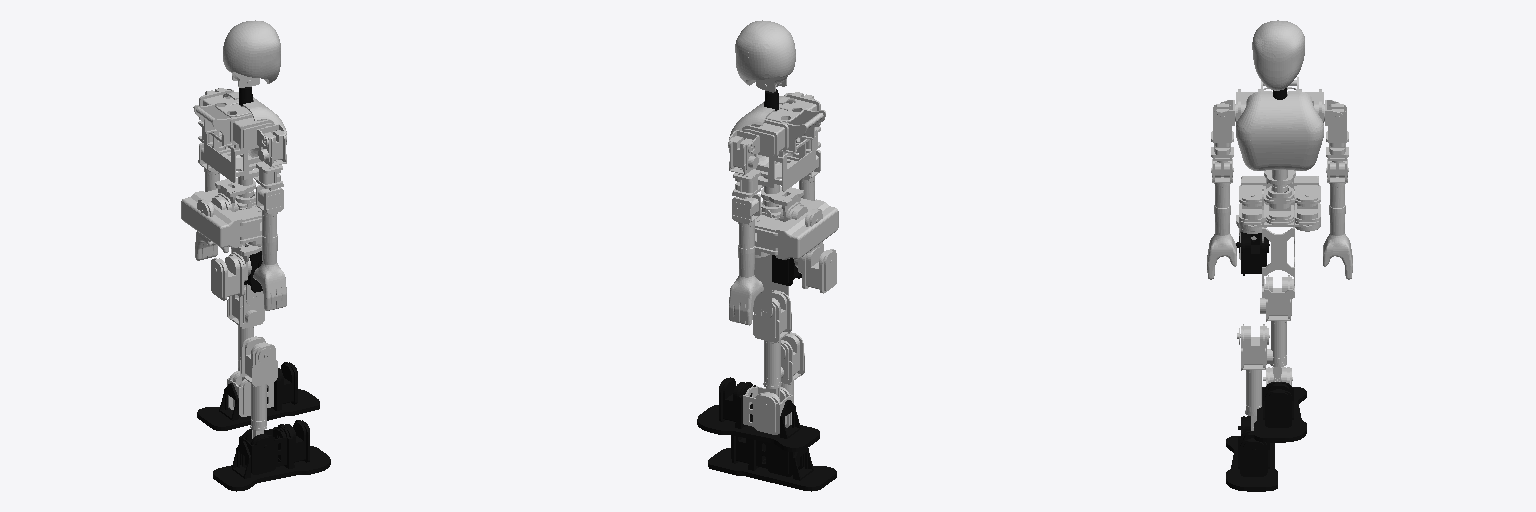
--- Render facts (derived) ---
Views: 3 orthographic renders of the robot side by side, from view 1: azimuth 30°, elevation 25°; view 2: azimuth 150°, elevation 25°; view 3: azimuth 270°, elevation 25°.
Robot: nimbro_op — 24 links, 23 joints (20 continuous, 3 fixed); root link trunk_link; default pose: all joints at 0.
Visible links, largest first — view 1: trunk_link, right_foot_link, head_link, left_foot_link, right_lower_arm_link, right_shank_link, right_hip_yaw_link, right_ankle_link, right_upper_arm_link, left_shank_link, left_hip_yaw_link, left_lower_arm_link (+1 smaller); view 2: trunk_link, left_foot_link, head_link, right_foot_link, left_lower_arm_link, left_shank_link, left_ankle_link, left_upper_arm_link, right_hip_yaw_link, right_shank_link, left_hip_yaw_link, left_thigh_link (+3 smaller); view 3: trunk_link, head_link, left_foot_link, right_foot_link, left_lower_arm_link, right_lower_arm_link, right_shank_link, left_shank_link, left_thigh_link, right_upper_arm_link, left_upper_arm_link, right_hip_roll_link.
Boxes of the visible links, x1,y1,x2,y2 form: trunk_link: [181, 90, 286, 247]; right_foot_link: [213, 420, 330, 491]; head_link: [223, 20, 280, 87]; left_foot_link: [197, 362, 319, 430]; right_lower_arm_link: [253, 185, 286, 310]; right_shank_link: [240, 336, 277, 438]; right_hip_yaw_link: [211, 243, 261, 300]; right_ankle_link: [239, 428, 286, 474]; right_upper_arm_link: [256, 130, 286, 189]; left_shank_link: [227, 285, 264, 381]; left_hip_yaw_link: [197, 178, 255, 241]; left_lower_arm_link: [195, 143, 228, 260]; trunk_link: [728, 94, 838, 259]; left_foot_link: [697, 377, 819, 451]; head_link: [735, 20, 795, 92]; right_foot_link: [708, 435, 836, 491]; left_lower_arm_link: [729, 194, 763, 325]; left_shank_link: [753, 290, 791, 398]; left_ankle_link: [743, 386, 792, 434]; left_upper_arm_link: [728, 136, 760, 198]; right_hip_yaw_link: [794, 247, 836, 293]; right_shank_link: [781, 332, 804, 403]; left_hip_yaw_link: [761, 186, 822, 252]; left_thigh_link: [753, 208, 788, 318]; trunk_link: [1236, 77, 1323, 231]; head_link: [1252, 20, 1304, 90]; left_foot_link: [1254, 382, 1306, 442]; right_foot_link: [1226, 431, 1277, 491]; left_lower_arm_link: [1323, 159, 1352, 279]; right_lower_arm_link: [1207, 159, 1236, 279]; right_shank_link: [1237, 324, 1272, 430]; left_shank_link: [1260, 275, 1293, 381]; left_thigh_link: [1262, 187, 1294, 298]; right_upper_arm_link: [1211, 103, 1233, 172]; left_upper_arm_link: [1326, 103, 1348, 172]; right_hip_roll_link: [1236, 232, 1269, 275].
Bounding box of the posed robot: 0.2685 × 0.3036 × 1.01 m (x, y, z).
19 mesh visuals loaded from 21 distinct referenced files (19 binary STL); not drawn: 2 (reference not matched to a file when rendering).

URDF robot description (nimbro_op):
<?xml version="1.0" ?>
<!-- =================================================================================== -->
<!-- |    This document was autogenerated by xacro from igus_op_hull.xacro             | -->
<!-- |    EDITING THIS FILE BY HAND IS NOT RECOMMENDED                                 | -->
<!-- =================================================================================== -->
<robot name="nimbro_op" xmlns:xacro="http://www.ros.org/wiki/xacro">
  <material name="black">
    <color rgba="0.1 0.1 0.1 1"/>
  </material>
  <material name="white">
    <color rgba="0.8 0.8 0.8 1"/>
  </material>
  <material name="clear">
    <color rgba="1.0 1.0 1.0 0.0"/>
  </material>
  <material name="orange">
    <color rgba="1.0 0.423529411765 0.0392156862745 1.0"/>
  </material>
  <link name="trunk_link">
    <inertial>
      <origin rpy="0 0 0" xyz="-0.03350128 -0.00000736 0.04997206"/>
      <mass value="3"/>
      <inertia ixx="0.0461408" ixy="-0.00002058" ixz="0.00526699" iyy="0.04220911" iyz="-0.00000817" izz="0.0145547"/>
    </inertial>
    <visual>
      <origin rpy="0 0 0" xyz="0 0 0"/>
      <geometry>
        <mesh filename="package://nimbro_op_model/mesh/uxa_90/trunk_link.stl"/>
      </geometry>
      <material name="white"/>
    </visual>
    <collision>
      <origin rpy="0 0 0" xyz="0 0 0"/>
      <geometry>
        <mesh filename="package://nimbro_op_model/mesh/uxa_90/trunk_link.stl"/>
      </geometry>
    </collision>
  </link>
  <link name="right_hip_yaw_link">
    <inertial>
      <origin rpy="0 0 0" xyz="-0.06619144 0 -0.01242002"/>
      <mass value="0.5"/>
      <inertia ixx="0.00054102" ixy="-0.00000002" ixz="0.00021081" iyy="0.00075394" iyz="-0.00000002" izz="0.0004465"/>
    </inertial>
    <visual>
      <origin rpy="0 0 0" xyz="0 0 0"/>
      <geometry>
        <mesh filename="package://nimbro_op_model/mesh/uxa_90/right_hip_yaw_link.stl"/>
      </geometry>
      <material name="white"/>
    </visual>
    <collision>
      <origin rpy="0 0 0" xyz="0 0 0"/>
      <geometry>
        <mesh filename="package://nimbro_op_model/mesh/uxa_90/right_hip_yaw_link.stl"/>
      </geometry>
    </collision>
  </link>
  <joint name="right_hip_yaw" type="continuous">
    <origin rpy="0 0 0" xyz="0 -0.057 -0.11248"/>
    <parent link="trunk_link"/>
    <child link="right_hip_yaw_link"/>
    <axis xyz="0 0 1"/>
  </joint>
  <link name="right_hip_roll_link">
    <inertial>
      <origin rpy="0 0 0" xyz="-0.00277154 -0.00294068 -0.02000261"/>
      <mass value="0.5"/>
      <inertia ixx="0.00040951" ixy="-0.00000051" ixz="-0.0000231" iyy="0.00037309" iyz="-0.00000404" izz="0.00028851"/>
    </inertial>
    <visual>
      <origin rpy="0 0 0" xyz="0 0 0"/>
      <geometry>
        <mesh filename="package://nimbro_op_model/mesh/uxa_90/right_hip_roll_link.STL"/>
      </geometry>
      <material name="black"/>
    </visual>
    <collision>
      <origin rpy="0 0 0" xyz="0 0 0"/>
      <geometry>
        <mesh filename="package://nimbro_op_model/mesh/uxa_90/right_hip_roll_link.STL"/>
      </geometry>
    </collision>
  </link>
  <joint name="right_hip_roll" type="continuous">
    <origin rpy="0 0 0" xyz="0 0.00257 0"/>
    <parent link="right_hip_yaw_link"/>
    <child link="right_hip_roll_link"/>
    <axis xyz="1 0 0"/>
  </joint>
  <link name="right_thigh_link">
    <inertial>
      <origin rpy="0 0 0" xyz="0.01351475 0 -0.117177084"/>
      <mass value="0.2"/>
      <inertia ixx="0.00086927" ixy="0.0" ixz="-0.00004286" iyy="0.00076355" iyz="0" izz="0.00021719"/>
    </inertial>
    <visual>
      <origin rpy="0 0 0" xyz="0 0 0"/>
      <geometry>
        <mesh filename="package://nimbro_op_model/mesh/uxa_90/right_thigh_link.stl"/>
      </geometry>
      <material name="white"/>
    </visual>
    <collision>
      <origin rpy="0 0 0" xyz="0 0 0"/>
      <geometry>
        <mesh filename="package://nimbro_op_model/mesh/uxa_90/right_thigh_link.stl"/>
      </geometry>
    </collision>
  </link>
  <joint name="right_hip_pitch" type="continuous">
    <origin rpy="0 0 0" xyz="0 0 0"/>
    <parent link="right_hip_roll_link"/>
    <child link="right_thigh_link"/>
    <axis xyz="0 1 0"/>
  </joint>
  <link name="right_shank_link">
    <inertial>
      <origin rpy="0 0 0" xyz="0.00011984 -0.00214972 -0.06205455"/>
      <mass value="0.5"/>
      <inertia ixx="0.00178356" ixy="0.00000195" ixz="0.00000109" iyy="0.00172349" iyz="-0.00000682" izz="0.00020309"/>
    </inertial>
    <visual>
      <origin rpy="0 0 0" xyz="0 0 0"/>
      <geometry>
        <mesh filename="package://nimbro_op_model/mesh/uxa_90/right_shank_link.stl"/>
      </geometry>
      <material name="white"/>
    </visual>
    <collision>
      <origin rpy="0 0 0" xyz="0 0 0"/>
      <geometry>
        <mesh filename="package://nimbro_op_model/mesh/uxa_90/right_shank_link.stl"/>
      </geometry>
    </collision>
  </link>
  <joint name="right_knee_pitch" type="continuous">
    <origin rpy="0 0 0" xyz="0 0.00309 -0.21"/>
    <parent link="right_thigh_link"/>
    <child link="right_shank_link"/>
    <axis xyz="0 1 0"/>
  </joint>
  <link name="right_ankle_link">
    <inertial>
      <origin rpy="0 0 0" xyz="-0.00262 -0.00734 -0.02244"/>
      <mass value="0.5"/>
      <inertia ixx="0.00037659" ixy="0.00000044" ixz="0.00000867" iyy="0.00040768" iyz="-0.00000423" izz="0.00034365"/>
    </inertial>
    <visual>
      <origin rpy="0 0 0" xyz="0 0 0"/>
      <geometry>
        <mesh filename="package://nimbro_op_model/mesh/uxa_90/right_ankle_link.STL"/>
      </geometry>
      <material name="black"/>
    </visual>
    <collision>
      <origin rpy="0 0 0" xyz="0 0 0"/>
      <geometry>
        <mesh filename="package://nimbro_op_model/mesh/uxa_90/right_ankle_link.STL"/>
      </geometry>
    </collision>
  </link>
  <joint name="right_ankle_pitch" type="continuous">
    <origin rpy="0 0 0" xyz="0 -0.00304 -0.21"/>
    <parent link="right_shank_link"/>
    <child link="right_ankle_link"/>
    <axis xyz="0 1 0"/>
  </joint>
  <link name="right_foot_link">
    <inertial>
      <origin rpy="0 0 0" xyz="0.05358428 -0.00050578 -0.04190127"/>
      <mass value="0.5"/>
      <inertia ixx="0.00065983" ixy="-0.00002894" ixz="0.00027412" iyy="0.00214467" iyz="-0.00000646" izz="0.00207273"/>
    </inertial>
    <visual>
      <origin rpy="0 0 0" xyz="0 0 0"/>
      <geometry>
        <mesh filename="package://nimbro_op_model/mesh/uxa_90/right_foot_link.stl"/>
      </geometry>
      <material name="black"/>
    </visual>
    <collision>
      <origin rpy="0 0 0" xyz="0 0 0"/>
      <geometry>
        <mesh filename="package://nimbro_op_model/mesh/uxa_90/right_foot_link.stl"/>
      </geometry>
    </collision>
  </link>
  <joint name="right_ankle_roll" type="continuous">
    <origin rpy="0 0 0" xyz="0 0 0"/>
    <parent link="right_ankle_link"/>
    <child link="right_foot_link"/>
    <axis xyz="1 0 0"/>
  </joint>
  <link name="right_foot_plane_link">
		</link>
  <joint name="right_foot_plane_joint" type="fixed">
    <origin rpy="0 0 0" xyz="0 0 -0.07245"/>
    <parent link="right_foot_link"/>
    <child link="right_foot_plane_link"/>
  </joint>
  <link name="left_hip_yaw_link">
    <inertial>
      <origin rpy="0 0 0" xyz="-0.06619144 0 -0.01242002"/>
      <mass value="0.5"/>
      <inertia ixx="0.00054102" ixy="-0.00000002" ixz="0.00021081" iyy="0.00075394" iyz="-0.00000002" izz="0.0004465"/>
    </inertial>
    <visual>
      <origin rpy="0 0 0" xyz="0 0 0"/>
      <geometry>
        <mesh filename="package://nimbro_op_model/mesh/uxa_90/left_hip_yaw_link.stl"/>
      </geometry>
      <material name="white"/>
    </visual>
    <collision>
      <origin rpy="0 0 0" xyz="0 0 0"/>
      <geometry>
        <mesh filename="package://nimbro_op_model/mesh/uxa_90/left_hip_yaw_link.stl"/>
      </geometry>
    </collision>
  </link>
  <joint name="left_hip_yaw" type="continuous">
    <origin rpy="0 0 0" xyz="0 0.057 -0.11248"/>
    <origin rpy="0 0 0" xyz="0 0 0"/>
    <parent link="trunk_link"/>
    <child link="left_hip_yaw_link"/>
    <axis xyz="0 0 1"/>
  </joint>
  <link name="left_hip_roll_link">
    <inertial>
      <origin rpy="0 0 0" xyz="-0.00277154 -0.00294068 -0.02000261"/>
      <mass value="0.5"/>
      <inertia ixx="0.00040951" ixy="-0.00000051" ixz="-0.0000231" iyy="0.00037309" iyz="-0.00000404" izz="0.00028851"/>
    </inertial>
    <visual>
      <origin rpy="0 0 0" xyz="0 0 0"/>
      <geometry>
        <mesh filename="package://nimbro_op_model/mesh/uxa_90/left_hip_roll_link.STL"/>
      </geometry>
      <material name="black"/>
    </visual>
    <collision>
      <origin rpy="0 0 0" xyz="0 0 0"/>
      <geometry>
        <mesh filename="package://nimbro_op_model/mesh/uxa_90/left_hip_roll_link.STL"/>
      </geometry>
    </collision>
  </link>
  <joint name="left_hip_roll" type="continuous">
    <origin rpy="0 0 0" xyz="0 -0.00257 0"/>
    <parent link="left_hip_yaw_link"/>
    <child link="left_hip_roll_link"/>
    <axis xyz="1 0 0"/>
  </joint>
  <link name="left_thigh_link">
    <inertial>
      <origin rpy="0 0 0" xyz="0.01351475 0 -0.117177084"/>
      <mass value="0.2"/>
      <inertia ixx="0.00086927" ixy="0.0" ixz="-0.00004286" iyy="0.00076355" iyz="0" izz="0.00021719"/>
    </inertial>
    <visual>
      <origin rpy="0 0 0" xyz="0 0 0"/>
      <geometry>
        <mesh filename="package://nimbro_op_model/mesh/uxa_90/left_thigh_link.stl"/>
      </geometry>
      <material name="white"/>
    </visual>
    <collision>
      <origin rpy="0 0 0" xyz="0 0 0"/>
      <geometry>
        <mesh filename="package://nimbro_op_model/mesh/uxa_90/left_thigh_link.stl"/>
      </geometry>
    </collision>
  </link>
  <joint name="left_hip_pitch" type="continuous">
    <origin rpy="0 0 0" xyz="0 0 0"/>
    <parent link="left_hip_roll_link"/>
    <child link="left_thigh_link"/>
    <axis xyz="0 1 0"/>
  </joint>
  <link name="left_shank_link">
    <inertial>
      <origin rpy="0 0 0" xyz="-0.00011984 0.00214792 -0.06205455"/>
      <mass value="0.5"/>
      <inertia ixx="0.00178356" ixy="0.00000195" ixz="-0.00000109" iyy="0.00172349" iyz="0.00000682" izz="0.00020309"/>
    </inertial>
    <visual>
      <origin rpy="0 0 0" xyz="0 0 0"/>
      <geometry>
        <mesh filename="package://nimbro_op_model/mesh/uxa_90/left_shank_link.stl"/>
      </geometry>
      <material name="white"/>
    </visual>
    <collision>
      <origin rpy="0 0 0" xyz="0 0 0"/>
      <geometry>
        <mesh filename="package://nimbro_op_model/mesh/uxa_90/left_shank_link.stl"/>
      </geometry>
    </collision>
  </link>
  <joint name="left_knee_pitch" type="continuous">
    <origin rpy="0 0 0" xyz="0 -0.00309 -0.21"/>
    <parent link="left_thigh_link"/>
    <child link="left_shank_link"/>
    <axis xyz="0 1 0"/>
  </joint>
  <link name="left_ankle_link">
    <inertial>
      <origin rpy="0 0 0" xyz="0.00262362 -0.00033512 -0.02243854"/>
      <mass value="0.5"/>
      <inertia ixx="0.00037659" ixy="0.00000044" ixz="0.00000867" iyy="0.00040768" iyz="-0.00000423" izz="0.00034365"/>
    </inertial>
    <visual>
      <origin rpy="0 0 0" xyz="0 0 0"/>
      <geometry>
        <mesh filename="package://nimbro_op_model/mesh/uxa_90/left_ankle_link.STL"/>
      </geometry>
      <material name="white"/>
    </visual>
    <collision>
      <origin rpy="0 0 0" xyz="0 0 0"/>
      <geometry>
        <mesh filename="package://nimbro_op_model/mesh/uxa_90/left_ankle_link.STL"/>
      </geometry>
    </collision>
  </link>
  <joint name="left_ankle_pitch" type="continuous">
    <origin rpy="0 0 0" xyz="0 0.00304 -0.21"/>
    <parent link="left_shank_link"/>
    <child link="left_ankle_link"/>
    <axis xyz="0 1 0"/>
  </joint>
  <link name="left_foot_link">
    <inertial>
      <origin rpy="0 0 0" xyz="0.05358428 -0.00050578 -0.04190127"/>
      <mass value="0.5"/>
      <inertia ixx="0.00065983" ixy="-0.00002894" ixz="0.00027412" iyy="0.00214467" iyz="-0.00000646" izz="0.00207273"/>
    </inertial>
    <visual>
      <origin rpy="0 0 0" xyz="0 0 0"/>
      <geometry>
        <mesh filename="package://nimbro_op_model/mesh/uxa_90/left_foot_link.stl"/>
      </geometry>
      <material name="black"/>
    </visual>
    <collision>
      <origin rpy="0 0 0" xyz="0 0 0"/>
      <geometry>
        <mesh filename="package://nimbro_op_model/mesh/uxa_90/left_foot_link.stl"/>
      </geometry>
    </collision>
  </link>
  <joint name="left_ankle_roll" type="continuous">
    <origin rpy="0 0 0" xyz="0 0 0"/>
    <parent link="left_ankle_link"/>
    <child link="left_foot_link"/>
    <axis xyz="1 0 0"/>
  </joint>
  <link name="left_foot_plane_link">
		</link>
  <joint name="left_foot_plane_joint" type="fixed">
    <origin rpy="0 0 0" xyz="0 0 -0.07245"/>
    <parent link="left_foot_link"/>
    <child link="left_foot_plane_link"/>
  </joint>
  <link name="right_shoulder_pitch_link">
    <inertial>
      <origin rpy="0 0 0" xyz="-0.00000163 -0.00799517 0"/>
      <mass value="0.1"/>
      <inertia ixx="0.00001543" ixy="0" ixz="0" iyy="0.00004317" iyz="0" izz="0.000003859"/>
    </inertial>
    <visual>
      <origin rpy="0 0 0" xyz="0 0 0"/>
      <geometry>
        <mesh filename="package://nimbro_op_model/mesh/uxa_90/right_shoulder_pitch_link.stl"/>
      </geometry>
      <material name="white"/>
    </visual>
    <collision>
      <origin rpy="0 0 0" xyz="0 0 0"/>
      <geometry>
        <mesh filename="package://nimbro_op_model/mesh/uxa_90/right_shoulder_pitch_link.stl"/>
      </geometry>
    </collision>
  </link>
  <joint name="right_shoulder_pitch" type="continuous">
    <origin rpy="0 0 0" xyz="0 -0.09116 0.1905"/>
    <parent link="trunk_link"/>
    <child link="right_shoulder_pitch_link"/>
    <axis xyz="0 1 0"/>
  </joint>
  <link name="right_upper_arm_link">
    <inertial>
      <origin rpy="0 0 0 " xyz="-0.0058694 0 -0.04909658"/>
      <mass value="0.5"/>
      <inertia ixx="0.0006643" ixy="0" ixz="0.00006539" iyy="0.00071563" iyz="0" izz="0.000141"/>
    </inertial>
    <visual>
      <origin rpy="0 0 0" xyz="0 0 0"/>
      <geometry>
        <mesh filename="package://nimbro_op_model/mesh/uxa_90/right_shoulder_arm_link.stl"/>
      </geometry>
      <material name="white"/>
    </visual>
    <collision>
      <origin rpy="0 0 0" xyz="0 0 0"/>
      <geometry>
        <mesh filename="package://nimbro_op_model/mesh/uxa_90/right_shoulder_arm_link.stl"/>
      </geometry>
    </collision>
  </link>
  <joint name="right_shoulder_roll" type="continuous">
    <origin rpy="0 0 0" xyz="0 -0.0285 0"/>
    <parent link="right_shoulder_pitch_link"/>
    <child link="right_upper_arm_link"/>
    <axis xyz="1 0 0"/>
  </joint>
  <link name="right_lower_arm_link">
    <inertial>
      <origin rpy="0 0 0" xyz="-0.01102935 -0.00284483 -0.11596989"/>
      <mass value="0.5"/>
      <inertia ixx="0.00317274" ixy="0.00000365" ixz="-0.00001572" iyy="0.00314138" iyz="0.000014695" izz="0.00016484"/>
    </inertial>
    <visual>
      <origin rpy="0 0 0" xyz="0 0 0"/>
      <geometry>
        <mesh filename="package://nimbro_op_model/mesh/uxa_90/right_lower_arm_link.stl"/>
      </geometry>
      <material name="white"/>
    </visual>
    <collision>
      <origin rpy="0 0 0" xyz="0 0 0"/>
      <geometry>
        <mesh filename="package://nimbro_op_model/mesh/uxa_90/right_lower_arm_link.stl"/>
      </geometry>
    </collision>
  </link>
  <joint name="right_elbow_pitch" type="continuous">
    <origin rpy="0 0 0" xyz="0 0 -0.1319"/>
    <parent link="right_upper_arm_link"/>
    <child link="right_lower_arm_link"/>
    <axis xyz="0 1 0"/>
  </joint>
  <link name="left_shoulder_pitch_link">
    <inertial>
      <origin rpy="0 0 0" xyz="0.00000163 0.00799517 0"/>
      <mass value="0.1"/>
      <inertia ixx="0.00001543" ixy="0" ixz="0" iyy="0.00004317" iyz="0" izz="0.000003859"/>
    </inertial>
    <visual>
      <origin rpy="0 0 0" xyz="0 0 0"/>
      <geometry>
        <mesh filename="package://nimbro_op_model/mesh/uxa_90/left_shoulder_pitch_link.stl"/>
      </geometry>
      <material name="white"/>
    </visual>
    <collision>
      <origin rpy="0 0 0" xyz="0 0 0"/>
      <geometry>
        <mesh filename="package://nimbro_op_model/mesh/uxa_90/left_shoulder_pitch_link.stl"/>
      </geometry>
    </collision>
  </link>
  <joint name="left_shoulder_pitch" type="continuous">
    <origin rpy="0 0 0" xyz="0 0.09116 0.1905"/>
    <parent link="trunk_link"/>
    <child link="left_shoulder_pitch_link"/>
    <axis xyz="0 1 0"/>
  </joint>
  <link name="left_upper_arm_link">
    <inertial>
      <origin rpy="0 0 0 " xyz="0 -0.00587 -0.0491"/>
      <mass value="0.5"/>
      <inertia ixx="0.00071563" ixy="0" ixz="0" iyy="0.00066643" iyz="-0.00006539" izz="0.000141"/>
    </inertial>
    <visual>
      <origin rpy="0 0 0" xyz="0 0 0"/>
      <geometry>
        <mesh filename="package://nimbro_op_model/mesh/uxa_90/left_upper_arm_link.stl"/>
      </geometry>
      <material name="white"/>
    </visual>
    <collision>
      <origin rpy="0 0 0" xyz="0 0 0"/>
      <geometry>
        <mesh filename="package://nimbro_op_model/mesh/uxa_90/left_upper_arm_link.stl"/>
      </geometry>
    </collision>
  </link>
  <joint name="left_shoulder_roll" type="continuous">
    <origin rpy="0 0 0" xyz="0 0.0285 0"/>
    <parent link="left_shoulder_pitch_link"/>
    <child link="left_upper_arm_link"/>
    <axis xyz="1 0 0"/>
  </joint>
  <link name="left_lower_arm_link">
    <inertial>
      <origin rpy="0 0 0" xyz="-0.01102139 0.00283095 -0.11596545"/>
      <mass value="0.5"/>
      <inertia ixx="0.00190532" ixy="-0.00000222" ixz="-0.00000958" iyy="0.0018868" iyz="-0.0000882" izz="0.000099"/>
    </inertial>
    <visual>
      <origin rpy="0 0 0" xyz="0 0 0"/>
      <geometry>
        <mesh filename="package://nimbro_op_model/mesh/uxa_90/left_lower_arm_link.stl"/>
      </geometry>
      <material name="white"/>
    </visual>
    <collision>
      <origin rpy="0 0 0" xyz="0 0 0"/>
      <geometry>
        <mesh filename="package://nimbro_op_model/mesh/uxa_90/left_lower_arm_link.stl"/>
      </geometry>
    </collision>
  </link>
  <joint name="left_elbow_pitch" type="continuous">
    <origin rpy="0 0 0" xyz="0 0 -0.1319"/>
    <parent link="left_upper_arm_link"/>
    <child link="left_lower_arm_link"/>
    <axis xyz="0 1 0"/>
  </joint>
  <link name="neck_link">
    <inertial>
      <origin rpy="0 0 0" xyz="0 0 0.02062"/>
      <mass value="0.05"/>
      <inertia ixx="0.00001034" ixy="0.0" ixz="0.0" iyy="0.00001035" iyz="0.0" izz="0.00000476"/>
    </inertial>
    <visual>
      <origin rpy="0 0 0" xyz="0 0 0"/>
      <geometry>
        <mesh filename="package://nimbro_op_model/mesh/uxa_90/neck_link.STL"/>
      </geometry>
      <material name="black"/>
    </visual>
    <collision>
      <origin rpy="0 0 0" xyz="0 0 0"/>
      <geometry>
        <mesh filename="package://nimbro_op_model/mesh/uxa_90/neck_link.STL"/>
      </geometry>
    </collision>
  </link>
  <joint name="neck_yaw" type="continuous">
    <origin rpy="0 0 -0.145633370434016" xyz="0 0 0.224"/>
    <parent link="trunk_link"/>
    <child link="neck_link"/>
    <axis xyz="0 0 1"/>
  </joint>
  <link name="head_link">
    <inertial>
      <origin rpy="0 0 0" xyz="0 0 0"/>
      <mass value="0.3"/>
      <inertia ixx="0.00009607" ixy="0" ixz="0" iyy="0.00007498" iyz="0.00000007" izz="0.00009005"/>
    </inertial>
    <visual>
      <origin rpy="0 0 0" xyz="0 0 0.05932"/>
      <geometry>
        <mesh filename="package://nimbro_op_model/mesh/uxa_90/head_full.stl"/>
      </geometry>
      <material name="white"/>
    </visual>
    <collision>
      <origin rpy="0 0 0" xyz="0 0 0.05932"/>
      <geometry>
        <mesh filename="package://nimbro_op_model/mesh/uxa_90/head_full.stl"/>
      </geometry>
    </collision>
  </link>
  <joint name="head_pitch" type="continuous">
    <origin rpy="0 0 0" xyz="0 0 0.05735"/>
    <parent link="neck_link"/>
    <child link="head_link"/>
    <axis xyz="0 1 0"/>
  </joint>
  <link name="camera_optical">			
		</link>
  <joint name="camera_joint" type="fixed">
    <origin rpy="0 0 0" xyz="0 0 0.05932"/>
    <parent link="head_link"/>
    <child link="camera_optical"/>
    <axis xyz="0 0 0"/>
  </joint>
  <!-- Transmissions -->
  <transmission name="right_hip_yaw_transmission">
    <type>transmission_interface/SimpleTransmission</type>
    <joint name="right_hip_yaw">
      <hardwareInterface>EffortJointInterface</hardwareInterface>
    </joint>
    <actuator name="right_hip_yaw">
      <mechanicalReduction>1</mechanicalReduction>
    </actuator>
  </transmission>
  <transmission name="right_hip_roll_transmission">
    <type>transmission_interface/SimpleTransmission</type>
    <joint name="right_hip_roll">
      <hardwareInterface>EffortJointInterface</hardwareInterface>
    </joint>
    <actuator name="right_hip_roll">
      <mechanicalReduction>1</mechanicalReduction>
    </actuator>
  </transmission>
  <transmission name="right_hip_pitch_transmission">
    <type>transmission_interface/SimpleTransmission</type>
    <joint name="right_hip_pitch">
      <hardwareInterface>EffortJointInterface</hardwareInterface>
    </joint>
    <actuator name="right_hip_pitch">
      <mechanicalReduction>1</mechanicalReduction>
    </actuator>
  </transmission>
  <transmission name="right_knee_pitch_transmission">
    <type>transmission_interface/SimpleTransmission</type>
    <joint name="right_knee_pitch">
      <hardwareInterface>EffortJointInterface</hardwareInterface>
    </joint>
    <actuator name="right_knee_pitch">
      <mechanicalReduction>1</mechanicalReduction>
    </actuator>
  </transmission>
  <transmission name="right_ankle_pitch_transmission">
    <type>transmission_interface/SimpleTransmission</type>
    <joint name="right_ankle_pitch">
      <hardwareInterface>EffortJointInterface</hardwareInterface>
    </joint>
    <actuator name="right_ankle_pitch">
      <mechanicalReduction>1</mechanicalReduction>
    </actuator>
  </transmission>
  <transmission name="right_ankle_roll_transmission">
    <type>transmission_interface/SimpleTransmission</type>
    <joint name="right_ankle_roll">
      <hardwareInterface>EffortJointInterface</hardwareInterface>
    </joint>
    <actuator name="right_ankle_roll">
      <mechanicalReduction>1</mechanicalReduction>
    </actuator>
  </transmission>
  <transmission name="left_hip_yaw_transmission">
    <type>transmission_interface/SimpleTransmission</type>
    <joint name="left_hip_yaw">
      <hardwareInterface>EffortJointInterface</hardwareInterface>
    </joint>
    <actuator name="left_hip_yaw">
      <mechanicalReduction>1</mechanicalReduction>
    </actuator>
  </transmission>
  <transmission name="left_hip_roll_transmission">
    <type>transmission_interface/SimpleTransmission</type>
    <joint name="left_hip_roll">
      <hardwareInterface>EffortJointInterface</hardwareInterface>
    </joint>
    <actuator name="left_hip_roll">
      <mechanicalReduction>1</mechanicalReduction>
    </actuator>
  </transmission>
  <transmission name="left_hip_pitch_transmission">
    <type>transmission_interface/SimpleTransmission</type>
    <joint name="left_hip_pitch">
      <hardwareInterface>EffortJointInterface</hardwareInterface>
    </joint>
    <actuator name="left_hip_pitch">
      <mechanicalReduction>1</mechanicalReduction>
    </actuator>
  </transmission>
  <transmission name="left_knee_pitch_transmission">
    <type>transmission_interface/SimpleTransmission</type>
    <joint name="left_knee_pitch">
      <hardwareInterface>EffortJointInterface</hardwareInterface>
    </joint>
    <actuator name="left_knee_pitch">
      <mechanicalReduction>1</mechanicalReduction>
    </actuator>
  </transmission>
  <transmission name="left_ankle_pitch_transmission">
    <type>transmission_interface/SimpleTransmission</type>
    <joint name="left_ankle_pitch">
      <hardwareInterface>EffortJointInterface</hardwareInterface>
    </joint>
    <actuator name="left_ankle_pitch">
      <mechanicalReduction>1</mechanicalReduction>
    </actuator>
  </transmission>
  <transmission name="left_ankle_roll_transmission">
    <type>transmission_interface/SimpleTransmission</type>
    <joint name="left_ankle_roll">
      <hardwareInterface>EffortJointInterface</hardwareInterface>
    </joint>
    <actuator name="left_ankle_roll">
      <mechanicalReduction>1</mechanicalReduction>
    </actuator>
  </transmission>
  <transmission name="right_shoulder_pitch_transmission">
    <type>transmission_interface/SimpleTransmission</type>
    <joint name="right_shoulder_pitch">
      <hardwareInterface>EffortJointInterface</hardwareInterface>
    </joint>
    <actuator name="right_shoulder_pitch">
      <mechanicalReduction>1</mechanicalReduction>
    </actuator>
  </transmission>
  <transmission name="right_shoulder_roll_transmission">
    <type>transmission_interface/SimpleTransmission</type>
    <joint name="right_shoulder_roll">
      <hardwareInterface>EffortJointInterface</hardwareInterface>
    </joint>
    <actuator name="right_shoulder_roll">
      <mechanicalReduction>1</mechanicalReduction>
    </actuator>
  </transmission>
  <transmission name="right_elbow_pitch_transmission">
    <type>transmission_interface/SimpleTransmission</type>
    <joint name="right_elbow_pitch">
      <hardwareInterface>EffortJointInterface</hardwareInterface>
    </joint>
    <actuator name="right_elbow_pitch">
      <mechanicalReduction>1</mechanicalReduction>
    </actuator>
  </transmission>
  <transmission name="left_shoulder_pitch_transmission">
    <type>transmission_interface/SimpleTransmission</type>
    <joint name="left_shoulder_pitch">
      <hardwareInterface>EffortJointInterface</hardwareInterface>
    </joint>
    <actuator name="left_shoulder_pitch">
      <mechanicalReduction>1</mechanicalReduction>
    </actuator>
  </transmission>
  <transmission name="left_shoulder_roll_transmission">
    <type>transmission_interface/SimpleTransmission</type>
    <joint name="left_shoulder_roll">
      <hardwareInterface>EffortJointInterface</hardwareInterface>
    </joint>
    <actuator name="left_shoulder_roll">
      <mechanicalReduction>1</mechanicalReduction>
    </actuator>
  </transmission>
  <transmission name="left_elbow_pitch_transmission">
    <type>transmission_interface/SimpleTransmission</type>
    <joint name="left_elbow_pitch">
      <hardwareInterface>EffortJointInterface</hardwareInterface>
    </joint>
    <actuator name="left_elbow_pitch">
      <mechanicalReduction>1</mechanicalReduction>
    </actuator>
  </transmission>
  <transmission name="neck_yaw_transmission">
    <type>transmission_interface/SimpleTransmission</type>
    <joint name="neck_yaw">
      <hardwareInterface>EffortJointInterface</hardwareInterface>
    </joint>
    <actuator name="neck_yaw">
      <mechanicalReduction>1</mechanicalReduction>
    </actuator>
  </transmission>
  <transmission name="head_pitch_transmission">
    <type>transmission_interface/SimpleTransmission</type>
    <joint name="head_pitch">
      <hardwareInterface>EffortJointInterface</hardwareInterface>
    </joint>
    <actuator name="head_pitch">
      <mechanicalReduction>1</mechanicalReduction>
    </actuator>
  </transmission>
  <!-- Gazebo configuration -->
  <gazebo>
    <plugin filename="libgazebo_ros_control.so" name="gazebo_ros_control">
      <robotNamespace>/nimbro_op</robotNamespace>
    </plugin>
  </gazebo>
  <!-- Gazebo links -->
  <gazebo reference="trunk_link">
    <material>Gazebo/White</material>
  </gazebo>
  <gazebo reference="left_hip_yaw_link">
    <material>Gazebo/White</material>
  </gazebo>
  <gazebo reference="left_hip_roll_link">
    <material>Gazebo/Black</material>
  </gazebo>
  <gazebo reference="left_thigh_link">
    <material>Gazebo/White</material>
  </gazebo>
  <gazebo reference="left_shank_link">
    <material>Gazebo/White</material>
  </gazebo>
  <gazebo reference="left_ankle_link">
    <material>Gazebo/White</material>
  </gazebo>
  <gazebo reference="left_foot_link">
    <material>Gazebo/FlatBlack</material>
    <kp>100000.0</kp>
    <kd>100.0</kd>
    <mu1>1.0</mu1>
    <mu2>1.0</mu2>
    <fdir1>1 0 0</fdir1>
    <maxVel>1.0</maxVel>
    <minDepth>0.00</minDepth>
  </gazebo>
  <gazebo reference="left_shoulder_pitch_link">
    <material>Gazebo/White</material>
  </gazebo>
  <gazebo reference="left_upper_arm_link">
    <material>Gazebo/White</material>
  </gazebo>
  <gazebo reference="left_lower_arm_link">
    <material>Gazebo/White</material>
  </gazebo>
  <gazebo reference="right_hip_yaw_link">
    <material>Gazebo/White</material>
  </gazebo>
  <gazebo reference="right_hip_roll_link">
    <material>Gazebo/Black</material>
  </gazebo>
  <gazebo reference="right_thigh_link">
    <material>Gazebo/White</material>
  </gazebo>
  <gazebo reference="right_shank_link">
    <material>Gazebo/White</material>
  </gazebo>
  <gazebo reference="right_ankle_link">
    <material>Gazebo/White</material>
  </gazebo>
  <gazebo reference="right_foot_link">
    <material>Gazebo/FlatBlack</material>
    <kp>100000.0</kp>
    <kd>100.0</kd>
    <mu1>1.0</mu1>
    <mu2>1.0</mu2>
    <fdir1>1 0 0</fdir1>
    <maxVel>1.0</maxVel>
    <minDepth>0.00</minDepth>
  </gazebo>
  <gazebo reference="right_shoulder_pitch_link">
    <material>Gazebo/White</material>
  </gazebo>
  <gazebo reference="right_upper_arm_link">
    <material>Gazebo/White</material>
  </gazebo>
  <gazebo reference="right_lower_arm_link">
    <material>Gazebo/White</material>
  </gazebo>
  <gazebo reference="neck_link">
    <material>Gazebo/Black</material>
  </gazebo>
</robot>
